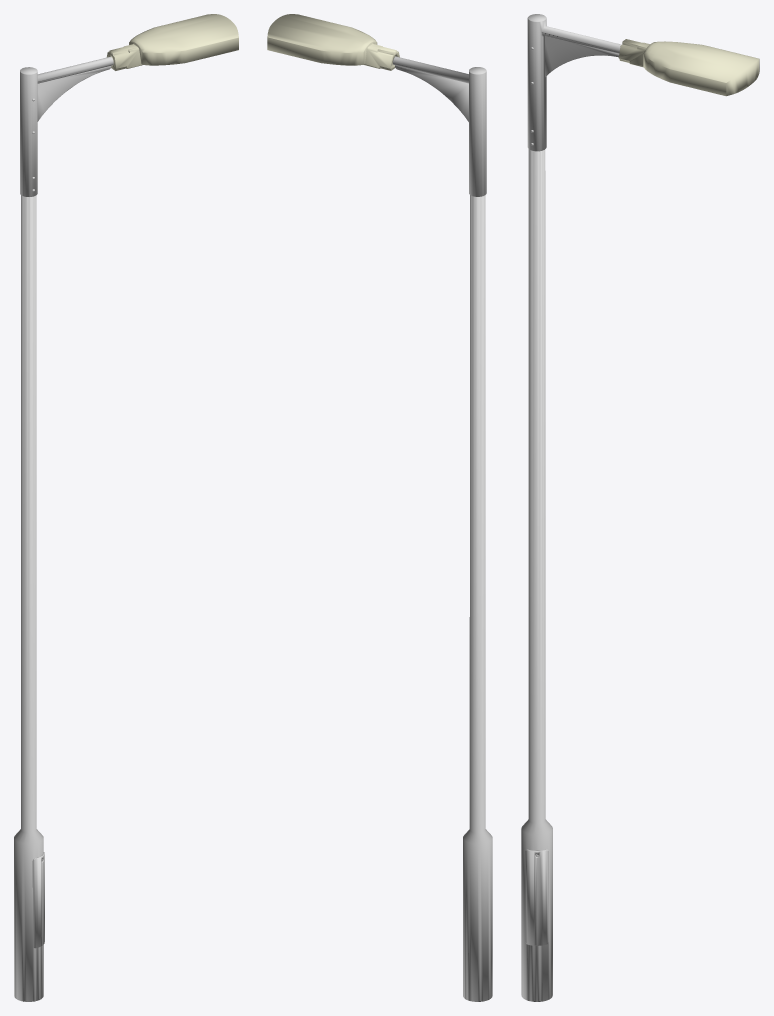
Rendered from lamp_04.glb.
3 views of the same model, side by side, from view 1: azimuth 30°, elevation 25°; view 2: azimuth 150°, elevation 25°; view 3: azimuth 330°, elevation 25° (orthographic). The views are drawn at different scales.
Visible parts, largest first — view 1: 6M_LampPost.007; view 2: 6M_LampPost.007; view 3: 6M_LampPost.007.
Part boxes in pixels (x1,y1,x2,y2): 6M_LampPost.007: (14,14,238,1001); 6M_LampPost.007: (267,14,492,1001); 6M_LampPost.007: (521,14,759,1001).
Size of the model in its own units: 1.24 by 5.16 by 0.3169.
